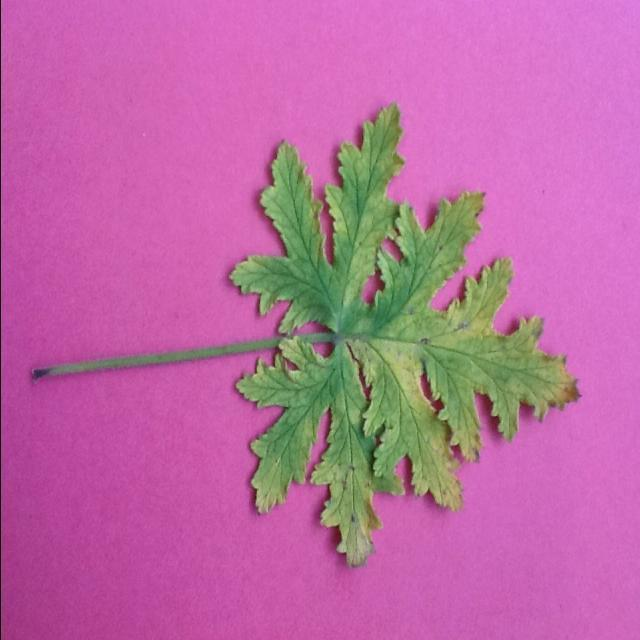foliage: (22, 98, 588, 569)
